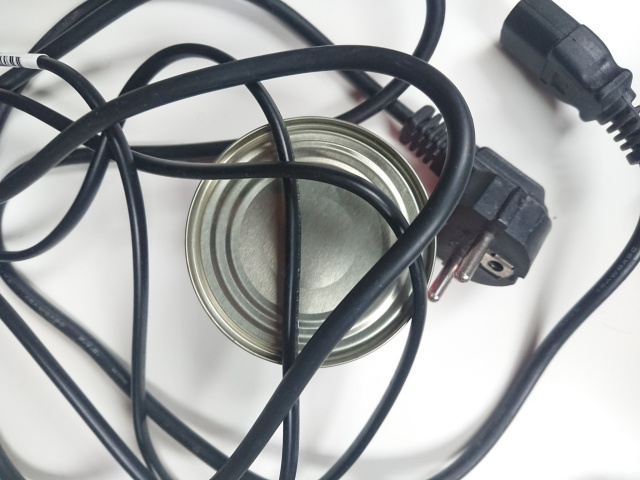Podravka Luncheon Meat 150g: (179, 112, 441, 372)
